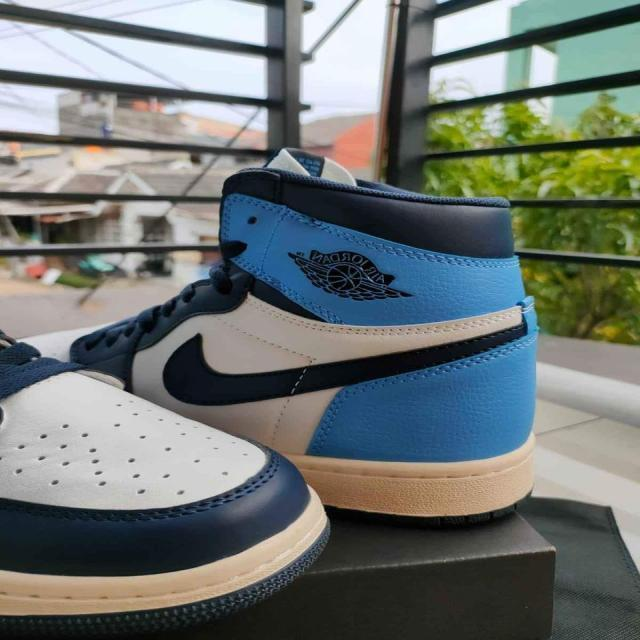nike original jordan 1: (61, 148, 536, 532), (0, 330, 338, 635)
